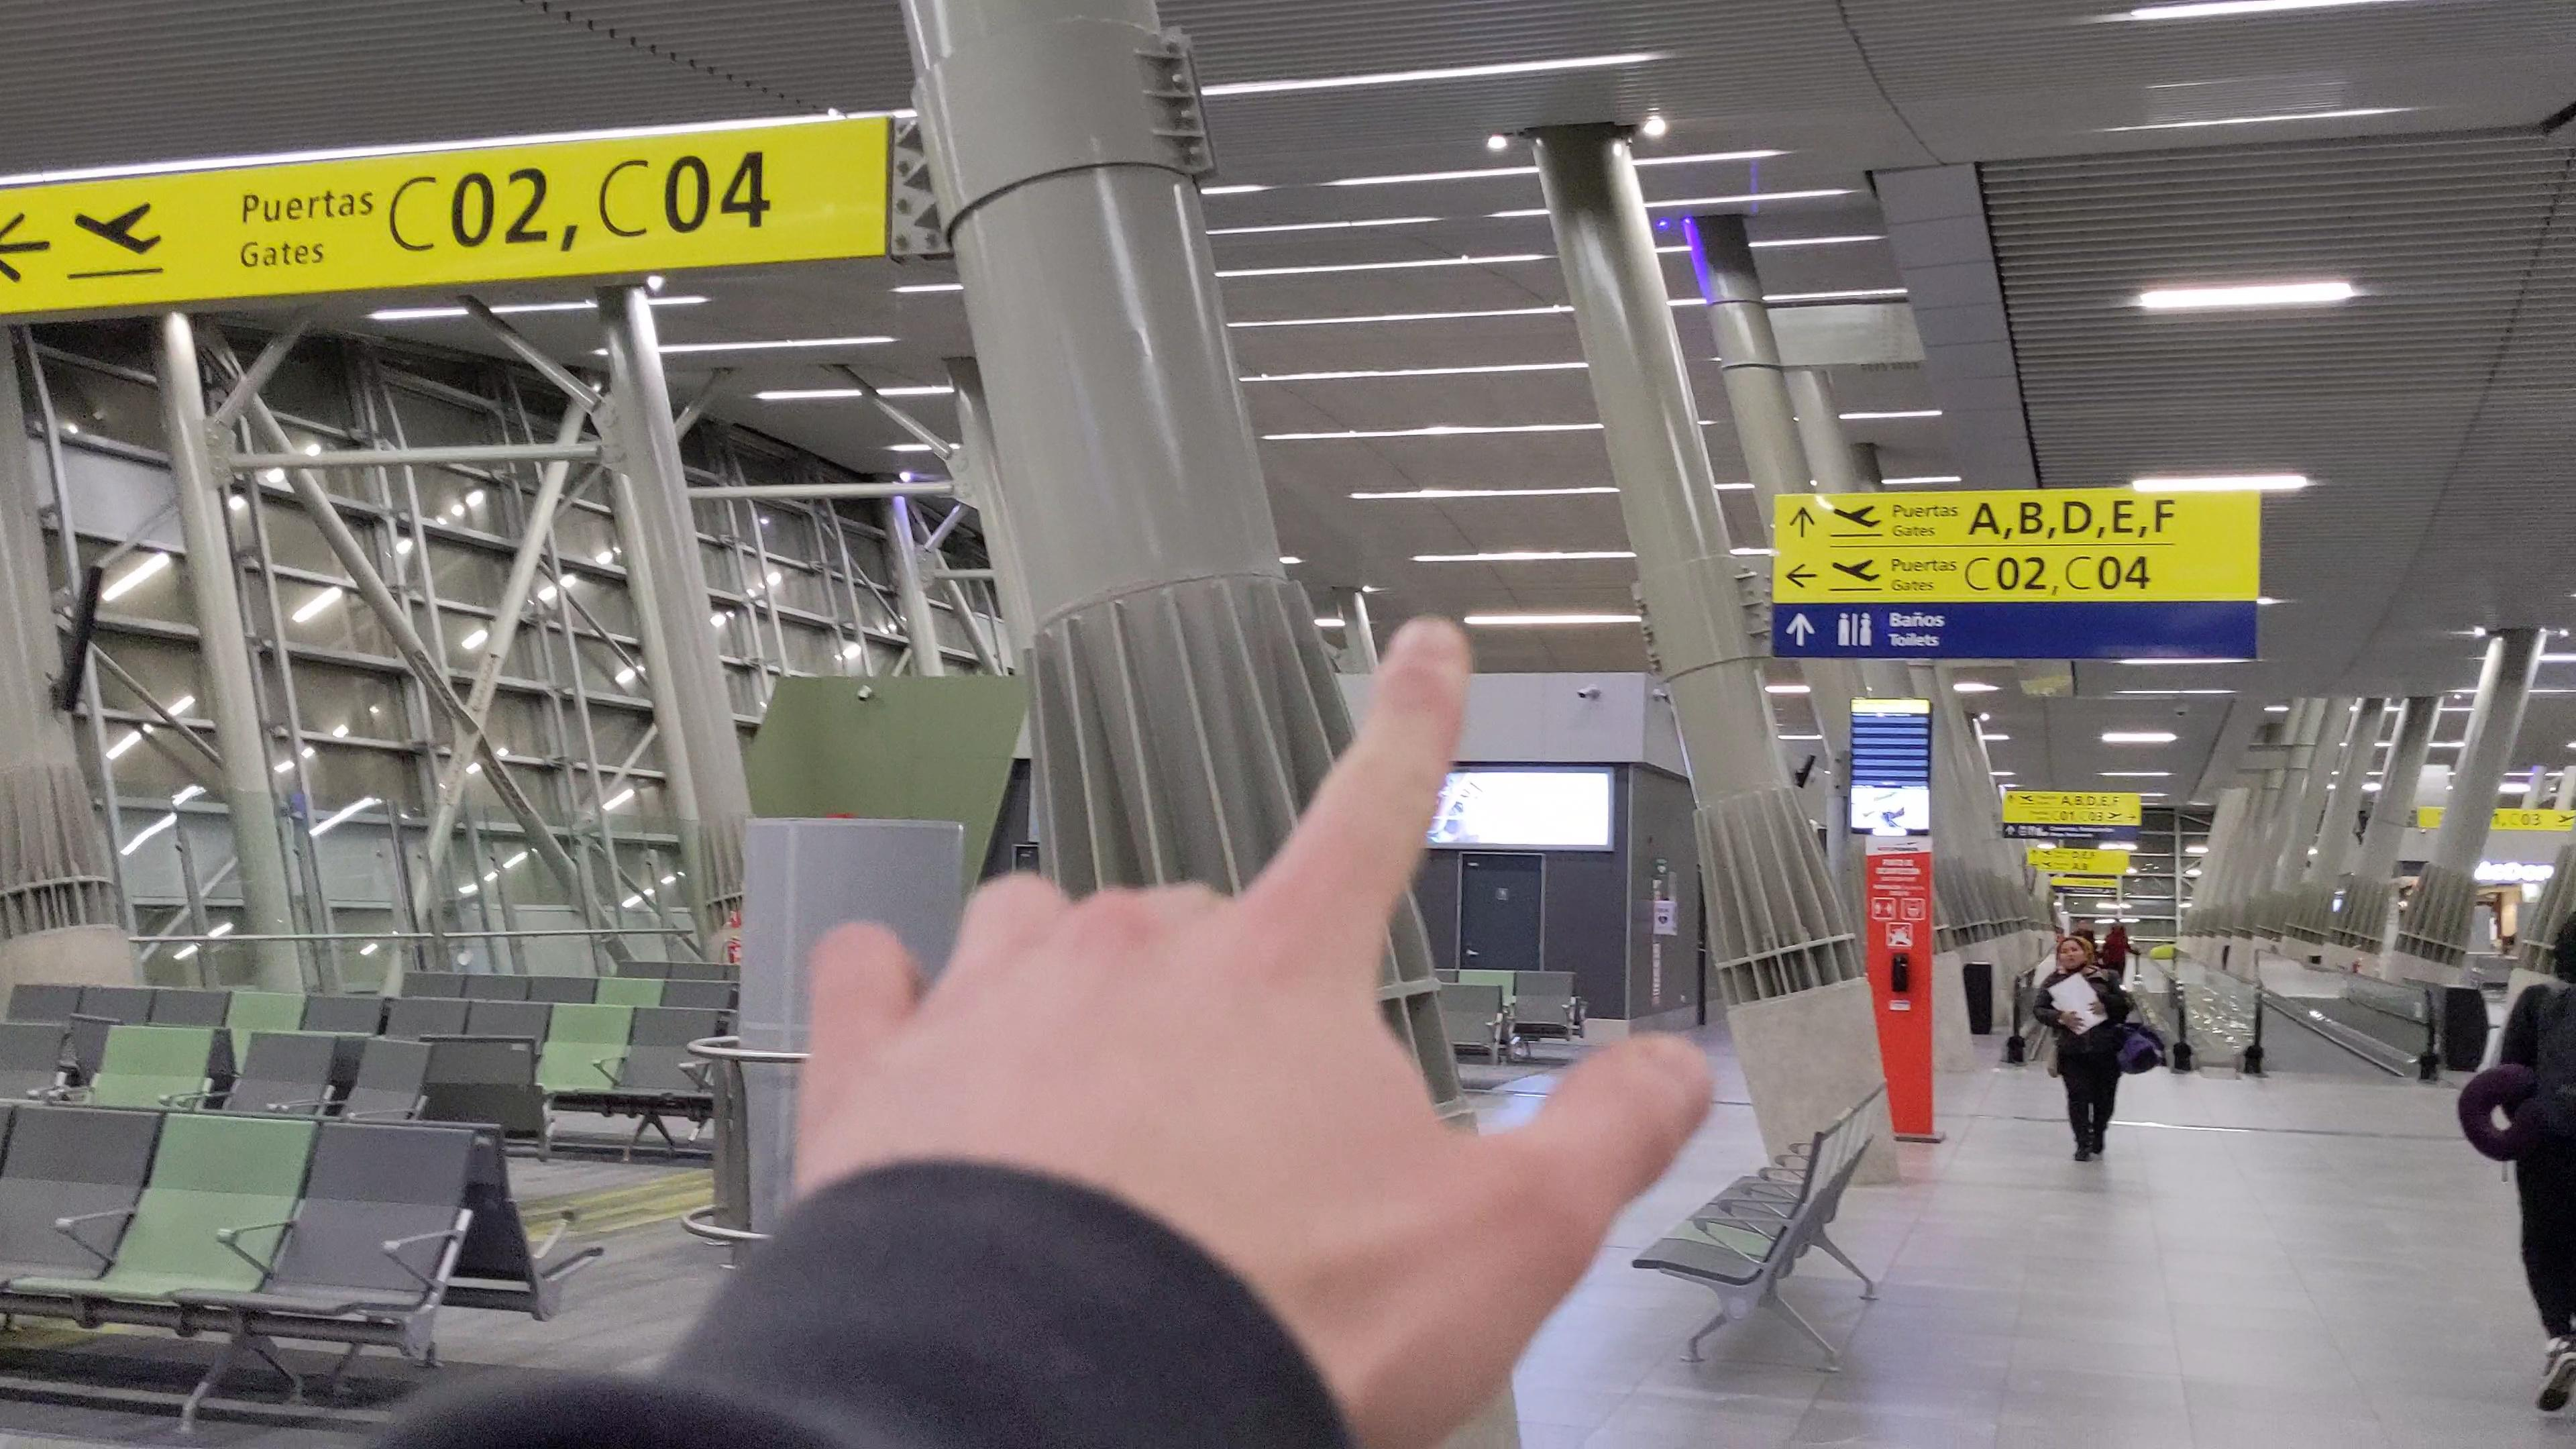airplane symbol: (73, 195, 166, 260), (1831, 556, 1881, 584), (1833, 502, 1881, 531), (2105, 810, 2123, 821), (2019, 794, 2033, 803), (2042, 849, 2052, 856), (2042, 860, 2052, 867)
bathrooms: (1836, 610, 1874, 648)
thin left arrow: (0, 207, 53, 288), (1783, 561, 1822, 589)
thin up arrow: (1785, 612, 1817, 648), (1789, 506, 1817, 540)
